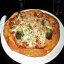pizza: (6, 12, 58, 55)
